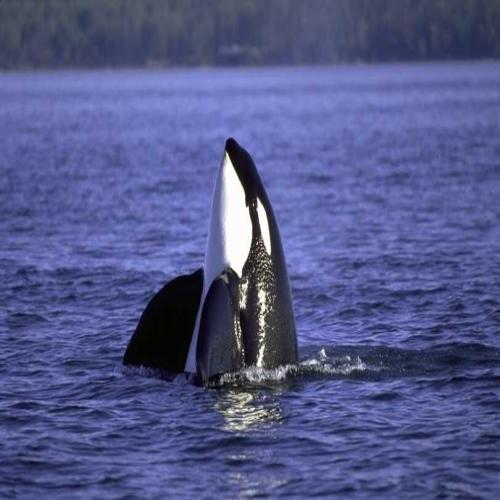killer_whale-endangered: (113, 100, 340, 399)
